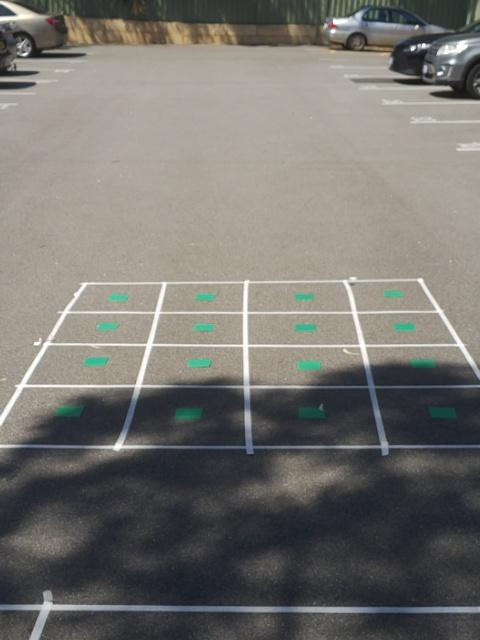weed: (427, 404, 458, 420), (53, 405, 85, 418), (297, 405, 324, 420), (174, 406, 202, 420), (296, 360, 321, 372), (411, 359, 437, 370), (293, 322, 316, 334), (186, 358, 211, 369), (95, 321, 118, 332), (393, 322, 417, 332), (83, 357, 108, 366), (383, 289, 404, 299), (294, 292, 314, 302), (191, 323, 215, 331), (195, 292, 214, 302), (107, 293, 128, 301)
